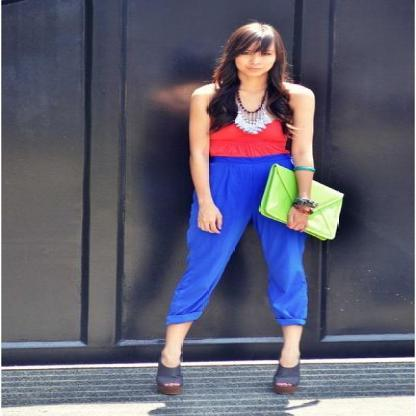bag: (259, 164, 343, 238)
pants: (166, 153, 307, 325)
shirt: (212, 108, 286, 156)
shoe: (149, 358, 323, 398)
